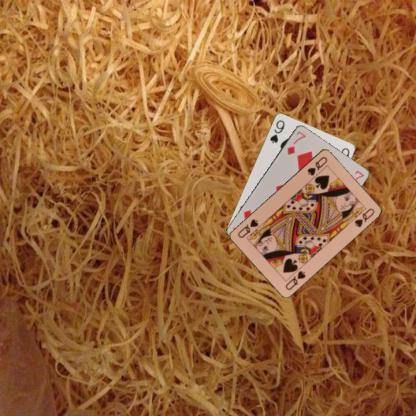7d: (284, 128, 307, 156)
9s: (267, 118, 285, 144)
Qs: (282, 268, 307, 291), (304, 154, 329, 176)
